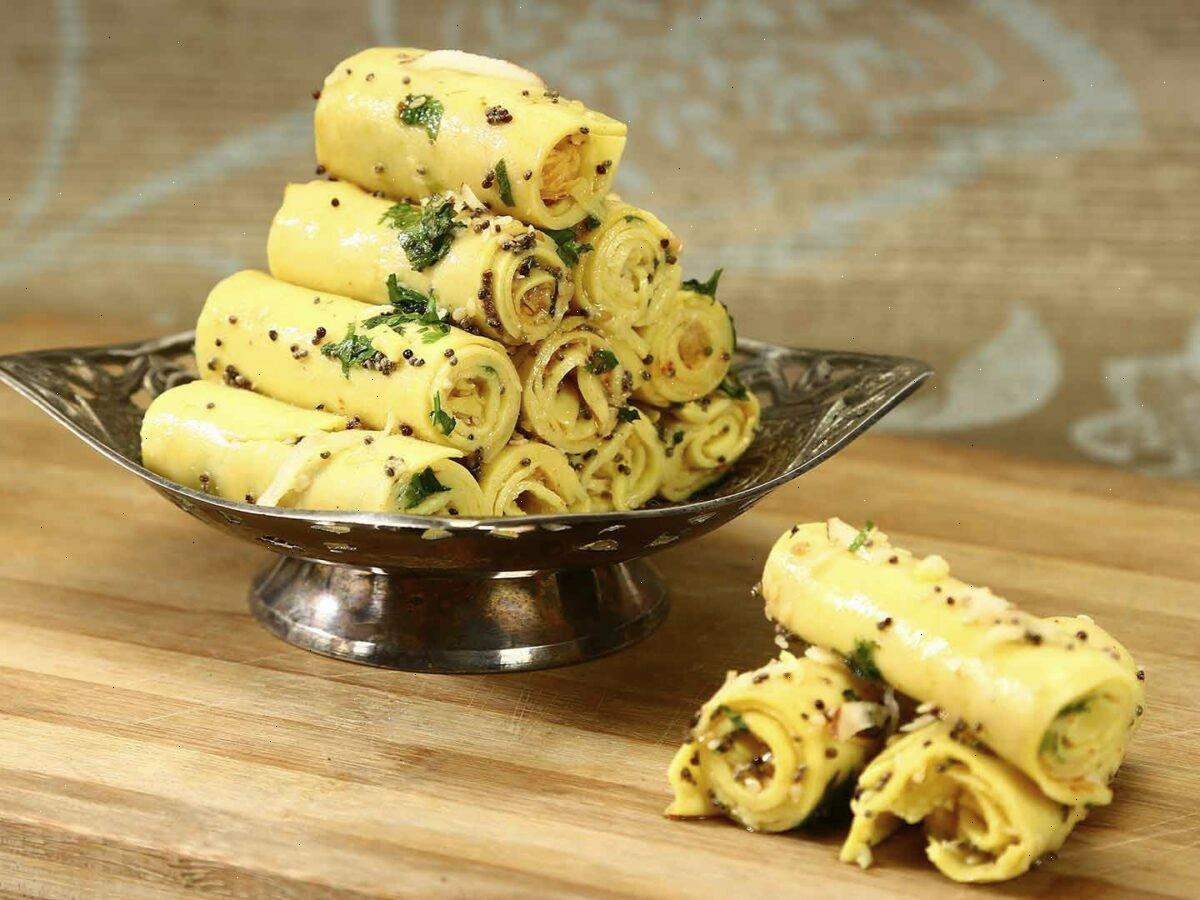khandvi: (188, 45, 752, 512), (752, 522, 1138, 892)
